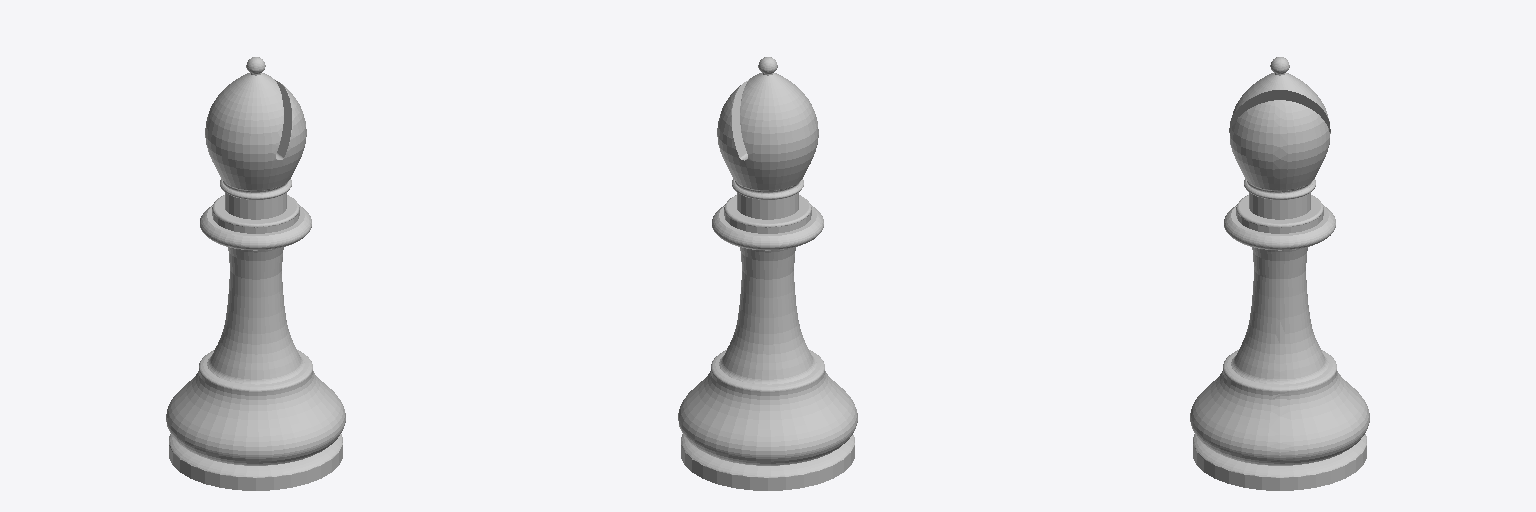
File: bishop_white.obj
3 views of the same model, side by side, from view 1: azimuth 30°, elevation 25°; view 2: azimuth 150°, elevation 25°; view 3: azimuth 270°, elevation 25° (orthographic).
Parts seen in each view (by area): view 1: Body8; view 2: Body8; view 3: Body8.
Boxes of the visible parts, box(x1,y1,x2,y2) form: Body8: box(166, 57, 345, 490); Body8: box(678, 57, 857, 490); Body8: box(1190, 57, 1369, 490).
Size of the model in its own units: 3.71 by 9.01 by 3.7.